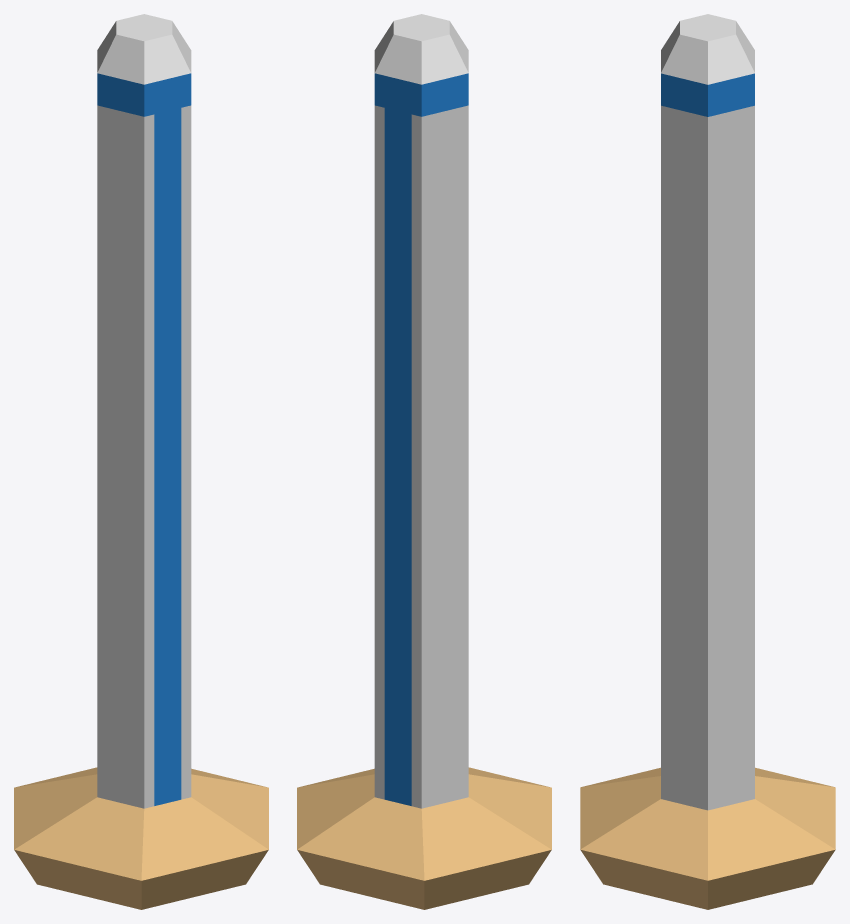
Rendered from TetherPole.fbx.
3 renders of one model, left to right at view 1: azimuth 30°, elevation 25°; view 2: azimuth 150°, elevation 25°; view 3: azimuth 270°, elevation 25°, orthographic.
Visible parts, largest first — view 1: TetherPole; view 2: TetherPole; view 3: TetherPole.
Boxes of the visible parts, box(x1,y1,x2,y2) form: TetherPole: box(14, 14, 268, 909); TetherPole: box(297, 14, 551, 909); TetherPole: box(580, 14, 835, 909).
Size of the model in its own units: 23.99 by 74.72 by 20.78.
